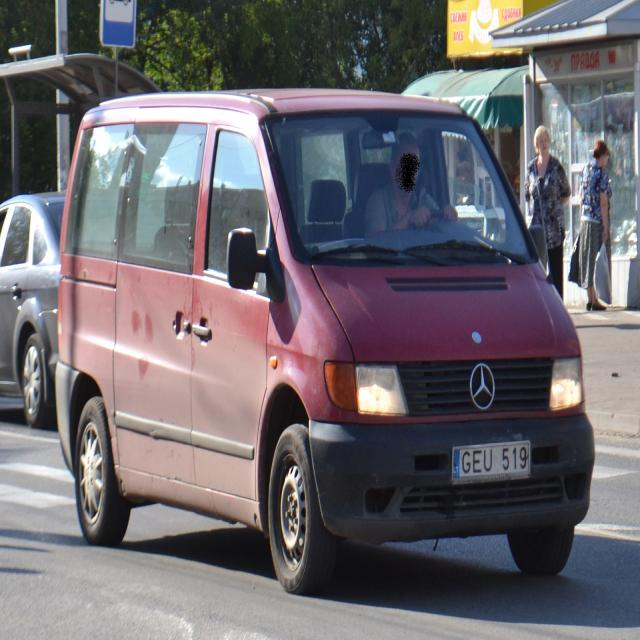License-plate: (451, 443, 530, 483)
